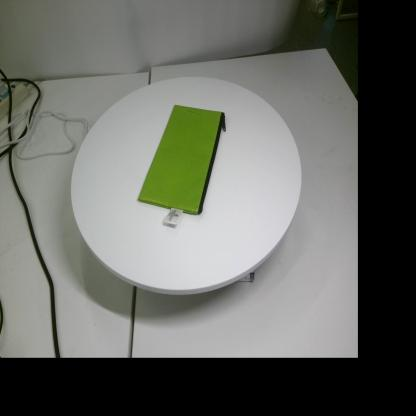Stationery: (137, 105, 226, 225)
